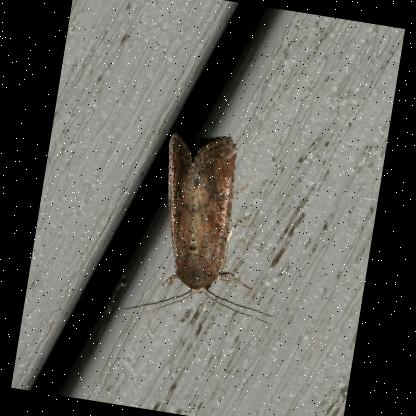Fall Armyworm Moth: (118, 121, 302, 344)
